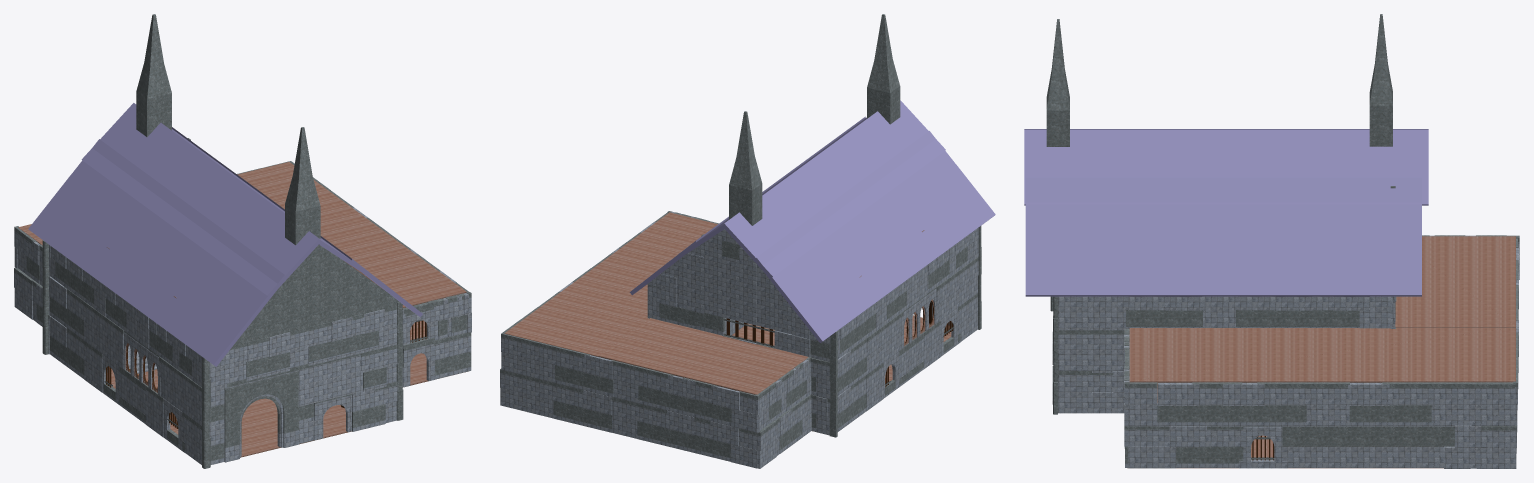
The model's file is Chapel+Library_Merge.fbx.
3 views of the same model, side by side, from view 1: azimuth 30°, elevation 25°; view 2: azimuth 150°, elevation 25°; view 3: azimuth 270°, elevation 25° (orthographic). The views are drawn at different scales.
Visible parts, largest first — view 1: mergedBlocks; view 2: mergedBlocks; view 3: mergedBlocks.
Part boxes in pixels (x1,y1,x2,y2): mergedBlocks: (14, 14, 471, 468); mergedBlocks: (500, 14, 995, 468); mergedBlocks: (1024, 14, 1519, 468).
Bounding box in the file's own units: 164 × 164 × 211.
